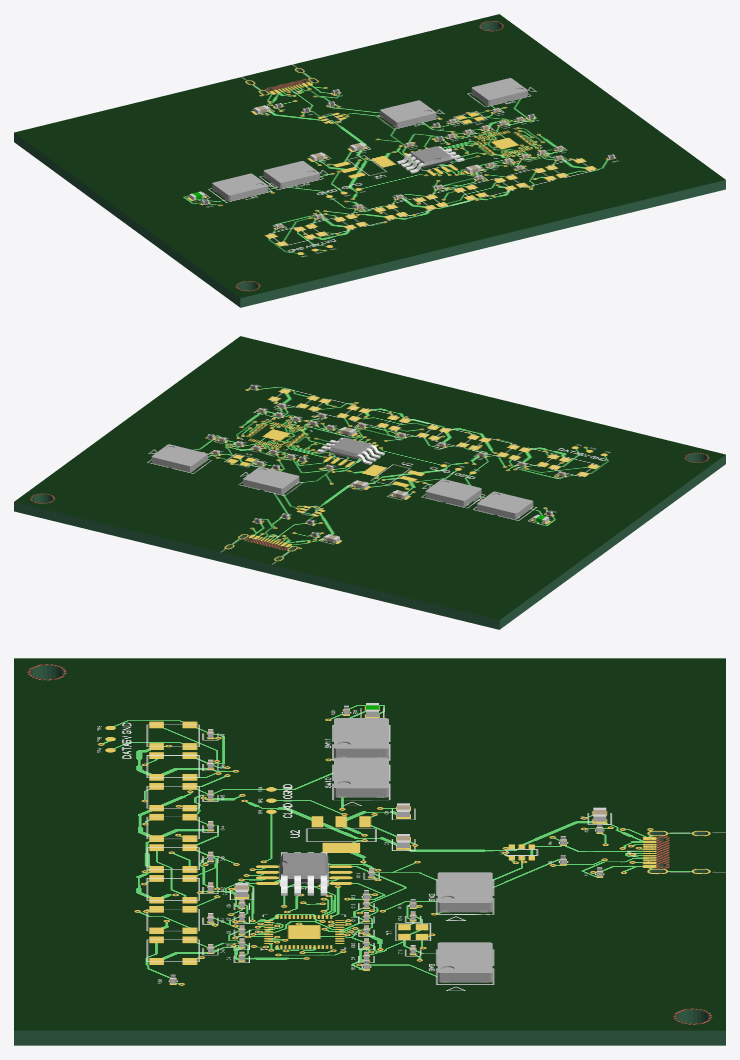
File: board.glb
The picture shows the model from 3 angles, top to bottom: view 1: azimuth 30°, elevation 25°; view 2: azimuth 150°, elevation 25°; view 3: azimuth 270°, elevation 25°; orthographic projection. The views are drawn at different scales.
Visible parts, largest first — view 1: Box0, SW2, SW11, SW3, SW10, U4; view 2: Box0, SW2, SW11, SW3, SW10, U4; view 3: Box0, SW2, SW3, SW10, SW11, U4.
Boxes of the visible parts, x1,y1,x2,y2 form: Box0: [14, 14, 725, 307]; SW2: [380, 100, 436, 128]; SW11: [212, 173, 268, 201]; SW3: [471, 78, 527, 105]; SW10: [263, 161, 319, 188]; U4: [397, 146, 464, 173]; Box0: [14, 336, 725, 629]; SW2: [243, 466, 299, 494]; SW11: [477, 491, 533, 519]; SW3: [151, 444, 207, 472]; SW10: [425, 479, 481, 506]; U4: [317, 437, 384, 464]; Box0: [14, 658, 725, 1045]; SW2: [437, 872, 492, 912]; SW3: [437, 942, 492, 982]; SW10: [334, 757, 388, 797]; SW11: [334, 718, 388, 757]; U4: [280, 852, 328, 895].
Bounding box in the file's own units: 84.9 × 2.88 × 68.6.
Materials: 10 (2 with a texture image).
